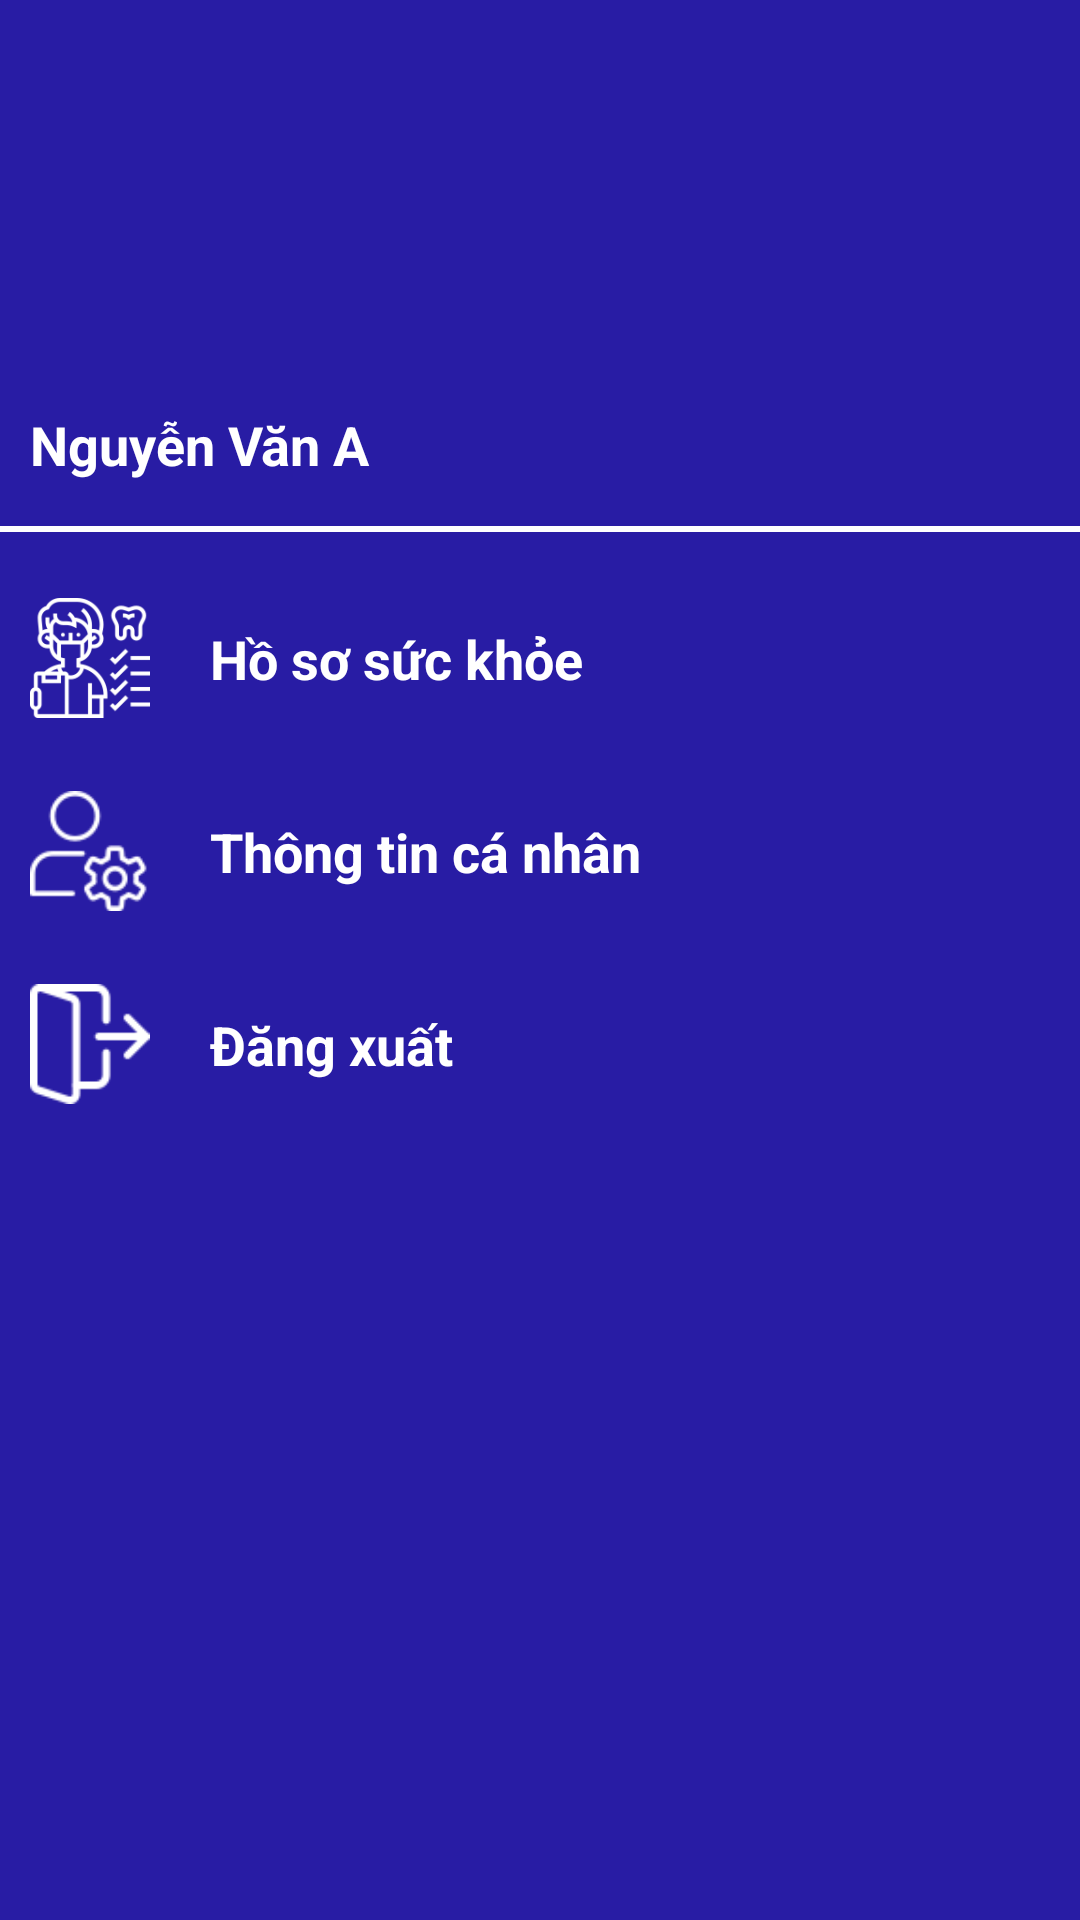

Where to tap for icons on this 1080px x 1920px app screen, as [x,y]:
health profile: [90,658]
personal information: [88,851]
